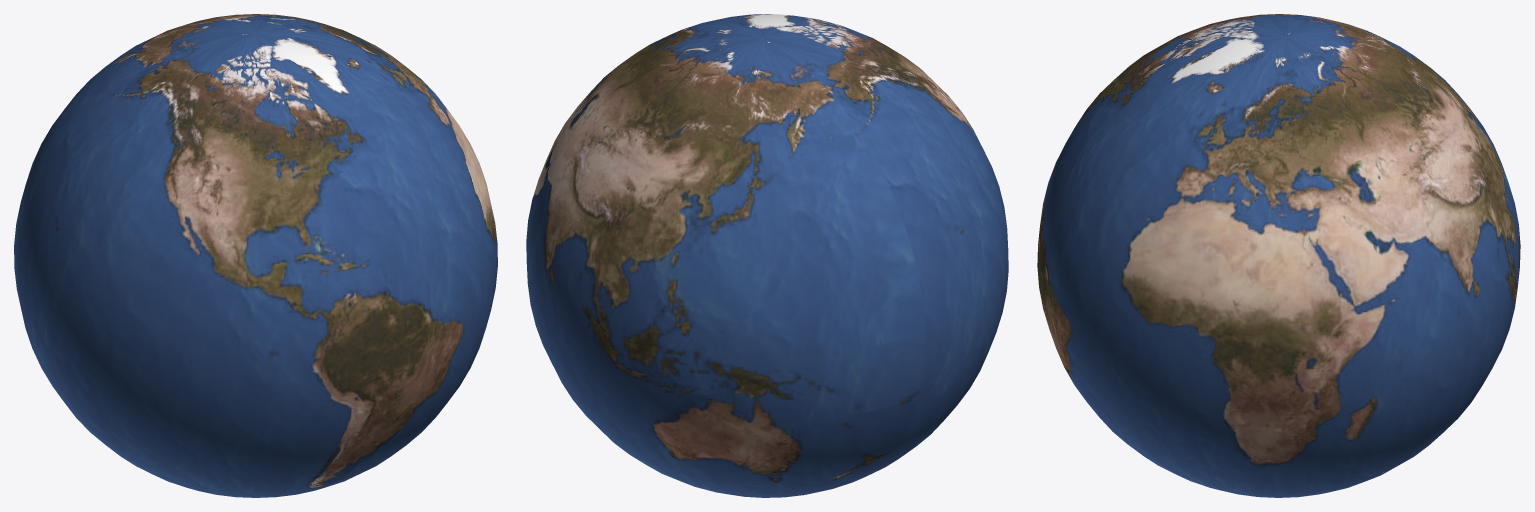
Rendered from globe.glb.
3 renders of one model, left to right at view 1: azimuth 30°, elevation 25°; view 2: azimuth 150°, elevation 25°; view 3: azimuth 270°, elevation 25°, orthographic.
Parts seen in each view (by area): view 1: Globe; view 2: Globe; view 3: Globe.
Part boxes in pixels (x1,y1,x2,y2): Globe: (14, 14, 497, 497); Globe: (526, 14, 1008, 497); Globe: (1037, 14, 1520, 497).
Size of the model in its own units: 6.01 by 6.03 by 6.02.
1 material, 1 textured.
